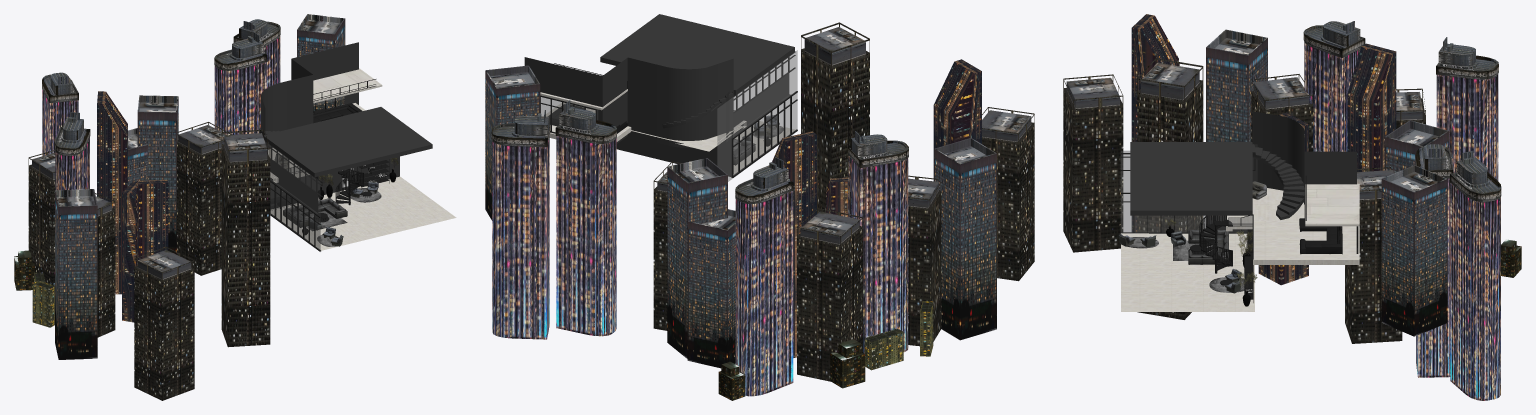
File: free_loft_17.glb
3 views of the same model, side by side, from view 1: azimuth 30°, elevation 25°; view 2: azimuth 150°, elevation 25°; view 3: azimuth 270°, elevation 25° (orthographic). The views are drawn at different scales.
Visible parts, largest first — view 1: Cube.040_Material.023_0, Cube.008_Material.002_0, Cube.042_Material.027_0, Cube.044_Material.028_0, Cube.006_Material.001_0, Cube.041_Material.025_0, Cube.040_Material.024_0, Cube.041_Material.026_0, Plane.026_Material.032_0, Cube_Material.003_0, Cube.049_Material.030_0, Cube.050_Material.031_0 (+4 smaller); view 2: Cube.041_Material.025_0, Cube.040_Material.023_0, Cube.042_Material.027_0, Cube.008_Material.002_0, Cube.040_Material.024_0, Cube.044_Material.028_0, Plane.026_Material.032_0, Cube.041_Material.026_0, Cube.050_Material.031_0, Cube_Material.003_0, Cube.049_Material.030_0, Cube.006_Material.001_0; view 3: Cube.041_Material.025_0, Cube.040_Material.023_0, Cube.042_Material.027_0, Cube.008_Material.002_0, Cube.006_Material.001_0, Cube.044_Material.028_0, Cube.040_Material.024_0, Cube.041_Material.026_0, Plane.026_Material.032_0, Cube_Material.003_0, Cylinder_Material.004_0, node_0.001_Material.013_0 (+4 smaller).
Boxes of the visible parts, x1,y1,x2,y2 form: Cube.040_Material.023_0: (28,122,270,400); Cube.008_Material.002_0: (259,42,432,213); Cube.042_Material.027_0: (55,19,345,359); Cube.044_Material.028_0: (97,91,168,322); Cube.006_Material.001_0: (268,68,456,250); Cube.041_Material.025_0: (42,36,280,190); Cube.040_Material.024_0: (32,14,344,279); Cube.041_Material.026_0: (42,19,280,155); Plane.026_Material.032_0: (251,96,344,251); Cube_Material.003_0: (265,79,389,251); Cube.049_Material.030_0: (32,272,54,327); Cube.050_Material.031_0: (14,250,34,290); Cube.041_Material.025_0: (492,136,908,396); Cube.040_Material.023_0: (653,22,1034,381); Cube.042_Material.027_0: (485,71,996,368); Cube.008_Material.002_0: (524,14,794,176); Cube.040_Material.024_0: (485,27,1031,244); Cube.044_Material.028_0: (772,59,981,357); Plane.026_Material.032_0: (540,50,797,181); Cube.041_Material.026_0: (491,100,908,203); Cube.050_Material.031_0: (718,339,865,400); Cube_Material.003_0: (540,51,797,177); Cube.049_Material.030_0: (865,301,933,370); Cube.006_Material.001_0: (540,89,795,174); Cube.041_Material.025_0: (1304,42,1500,400); Cube.040_Material.023_0: (1063,58,1425,343); Cube.042_Material.027_0: (1206,38,1449,336); Cube.008_Material.002_0: (1130,111,1356,219); Cube.006_Material.001_0: (1121,184,1359,311); Cube.044_Material.028_0: (1131,14,1396,285); Cube.040_Material.024_0: (1066,29,1448,199); Cube.041_Material.026_0: (1303,21,1501,202); Plane.026_Material.032_0: (1120,150,1252,233); Cube_Material.003_0: (1121,153,1358,302); Cylinder_Material.004_0: (1188,218,1342,286); node_0.001_Material.013_0: (1188,229,1228,264).
Size of the model in its own units: 37.19 by 19.26 by 33.93.
Materials: 25 (19 with a texture image).
